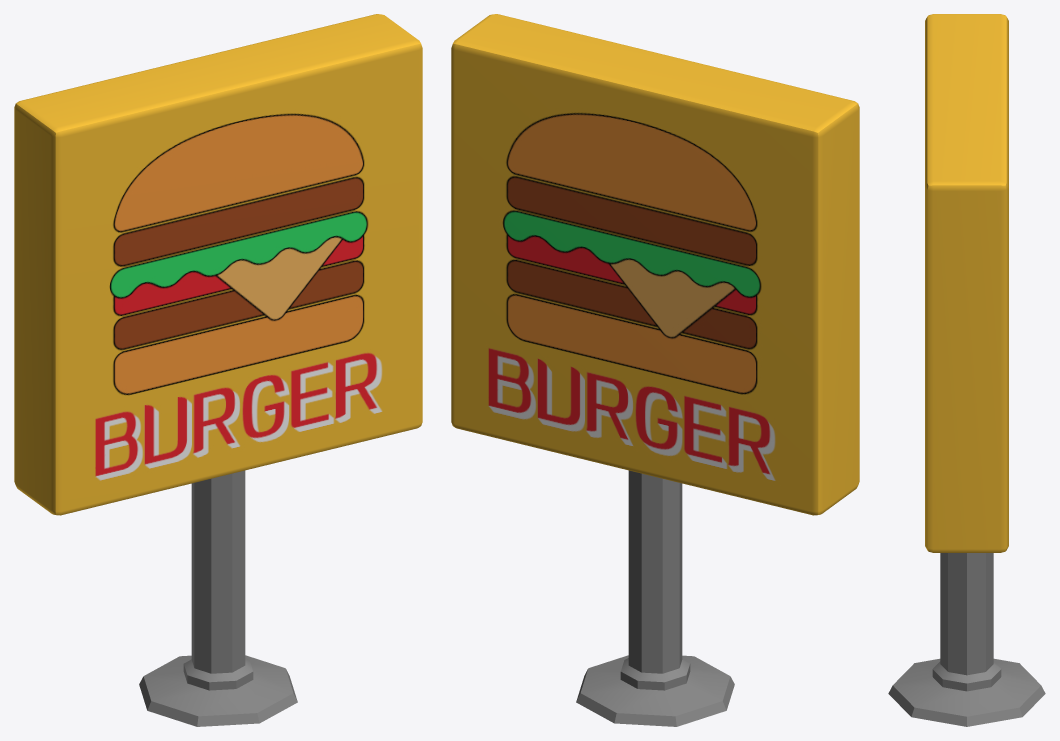
Rendered from fbx_hamburgerSign_01.fbx.
The picture shows the model from 3 angles, left to right: view 1: azimuth 30°, elevation 25°; view 2: azimuth 150°, elevation 25°; view 3: azimuth 270°, elevation 25°; orthographic projection. The views are drawn at different scales.
Parts seen in each view (by area): view 1: hamburgerSign_geo_01; view 2: hamburgerSign_geo_01; view 3: hamburgerSign_geo_01.
Part boxes in pixels (left/top/right/bottom): hamburgerSign_geo_01: left=14, top=14, right=422, bottom=726; hamburgerSign_geo_01: left=451, top=14, right=859, bottom=726; hamburgerSign_geo_01: left=888, top=14, right=1045, bottom=726.
Size of the model in its own units: 2.03 by 3.26 by 0.7799.
1 material, 1 textured.
